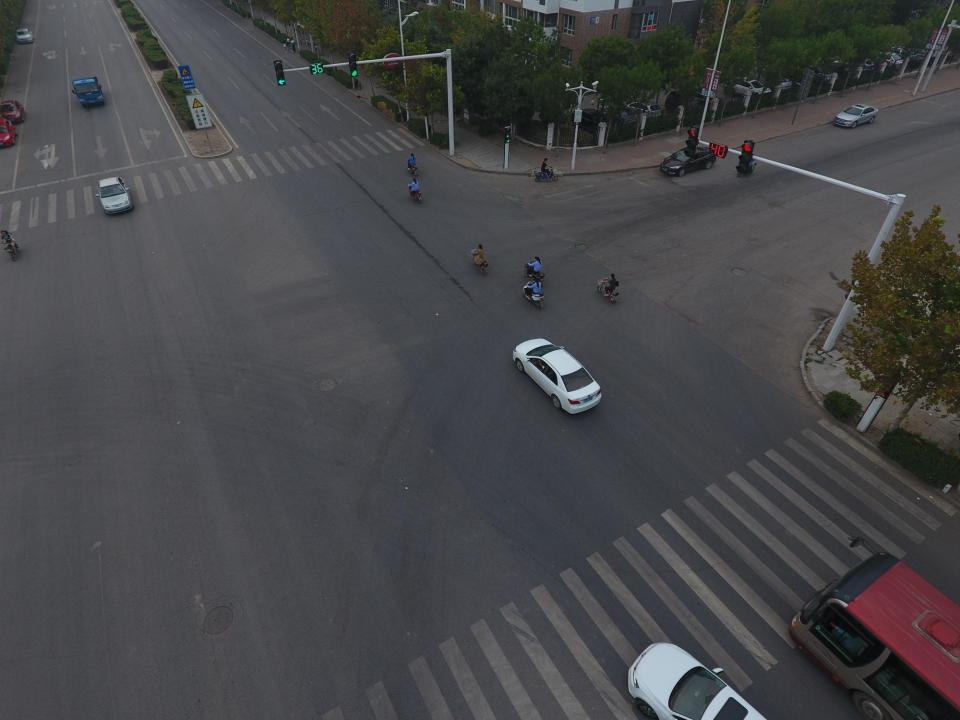car: (628, 642, 767, 720), (513, 339, 601, 414), (660, 146, 717, 177), (665, 88, 725, 115), (95, 176, 134, 214), (570, 108, 617, 137), (599, 102, 640, 129), (833, 104, 879, 128), (723, 78, 772, 99), (623, 100, 667, 122), (867, 51, 906, 70), (833, 57, 874, 73), (818, 62, 854, 80), (0, 100, 25, 125), (882, 46, 918, 62), (0, 118, 18, 148), (902, 50, 931, 60), (16, 28, 34, 44)
truck: (71, 76, 105, 107)
van: (754, 68, 792, 93), (805, 64, 836, 86)
